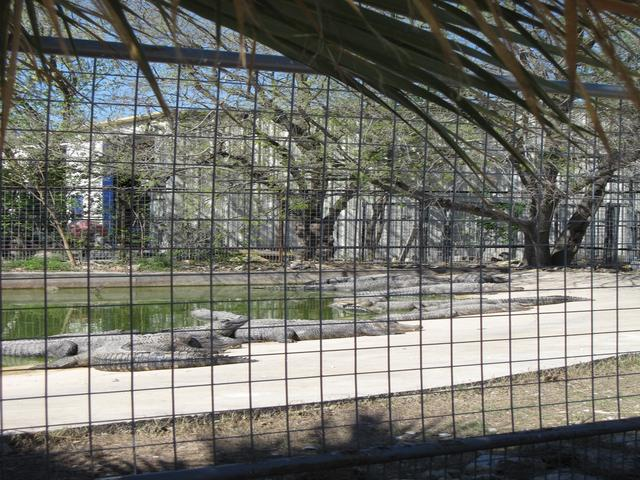crocodile: (27, 306, 382, 377)
